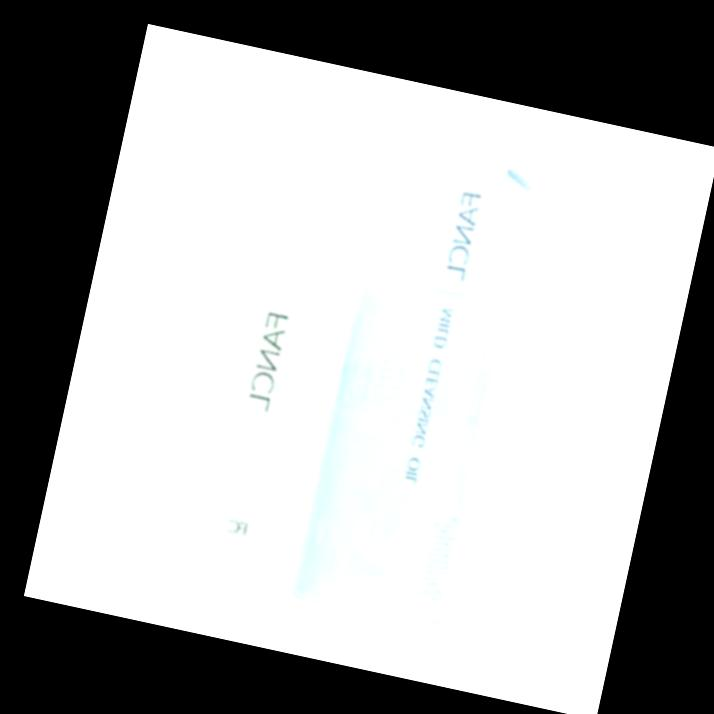cosmetic: (159, 133, 379, 589)
